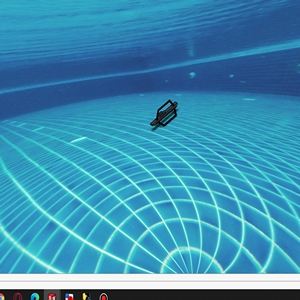submarine: (148, 102, 184, 124)
